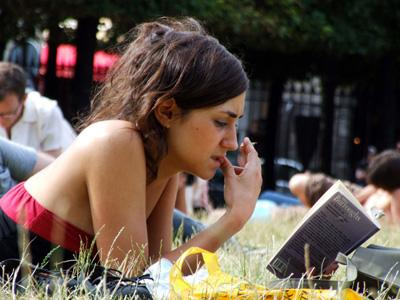person: (2, 18, 263, 300)
